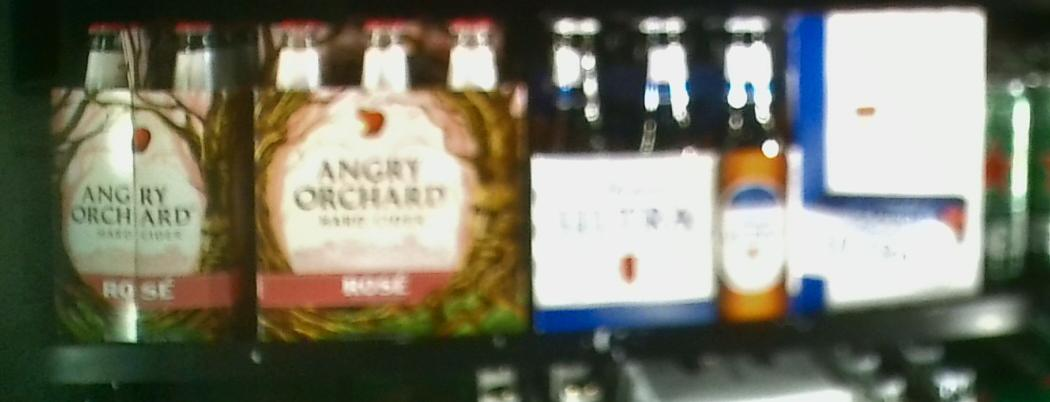bottle: (254, 20, 532, 340), (534, 18, 793, 328), (52, 19, 254, 350), (793, 8, 987, 311)
